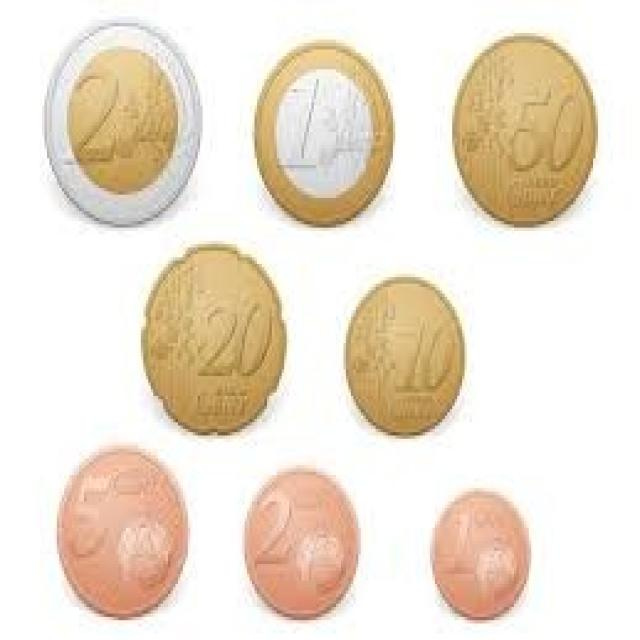10c: (344, 277, 467, 440)
1c: (428, 483, 536, 627)
1e: (251, 36, 392, 228)
20c: (138, 241, 290, 440)
2c: (239, 466, 361, 622)
2e: (42, 10, 206, 231)
50c: (452, 33, 595, 229)
5c: (54, 442, 190, 620)
